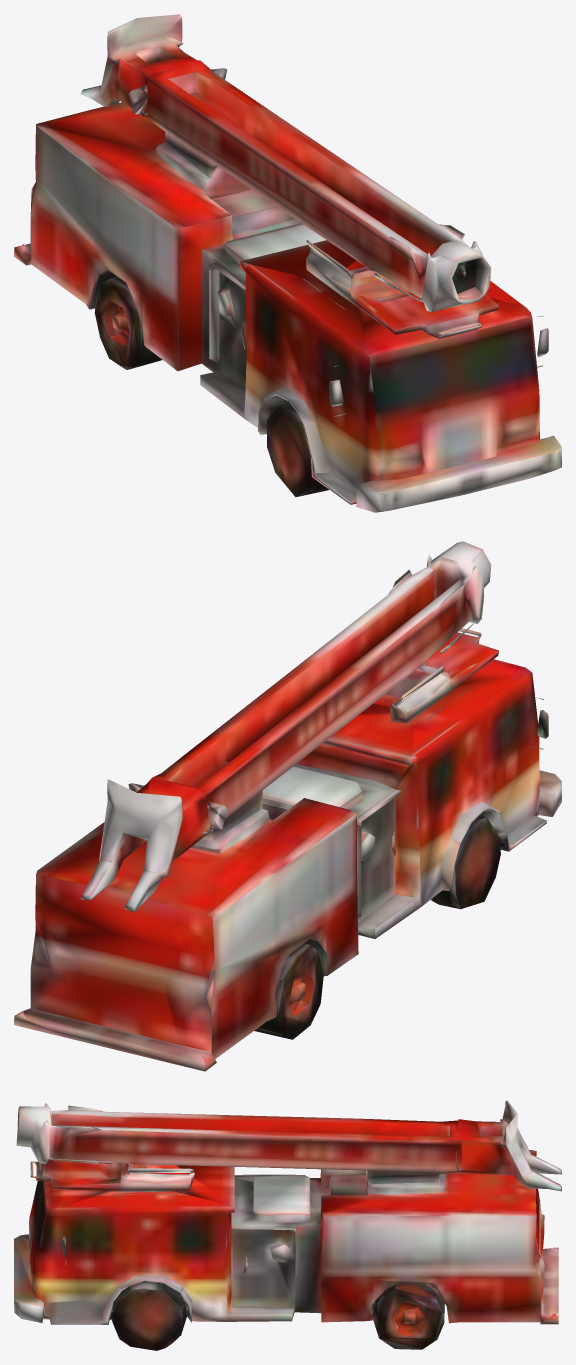
3 renders of one model, top to bottom at view 1: azimuth 30°, elevation 25°; view 2: azimuth 150°, elevation 25°; view 3: azimuth 270°, elevation 25°, orthographic. The views are drawn at different scales.
Parts seen in each view (by area): view 1: Object_2; view 2: Object_2; view 3: Object_2.
Part boxes in pixels (x1,y1,x2,y2): Object_2: [14, 14, 561, 512]; Object_2: [14, 541, 561, 1071]; Object_2: [14, 1100, 561, 1350].
Bounding box in the file's own units: 0.6545 × 0.7947 × 1.89.
Materials: 1 (1 with a texture image).
